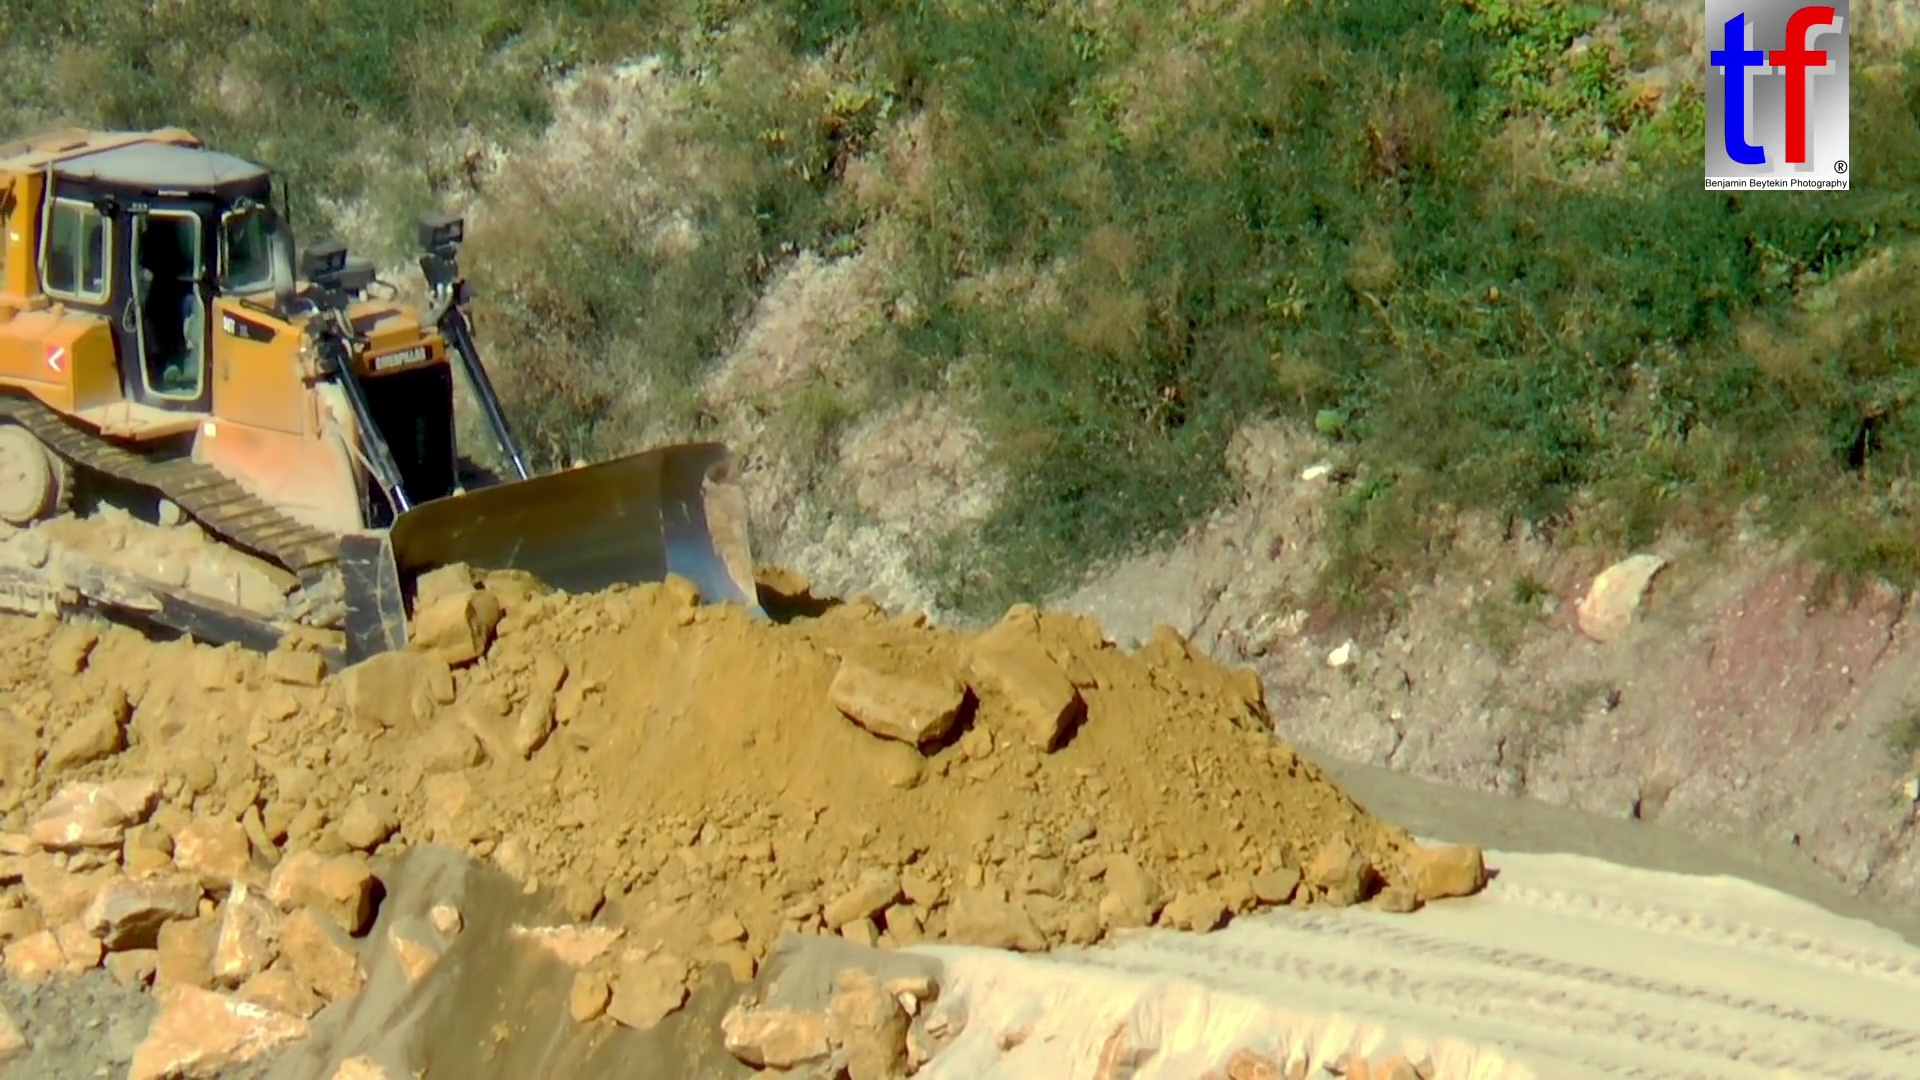bulldozer: (11, 124, 773, 678)
